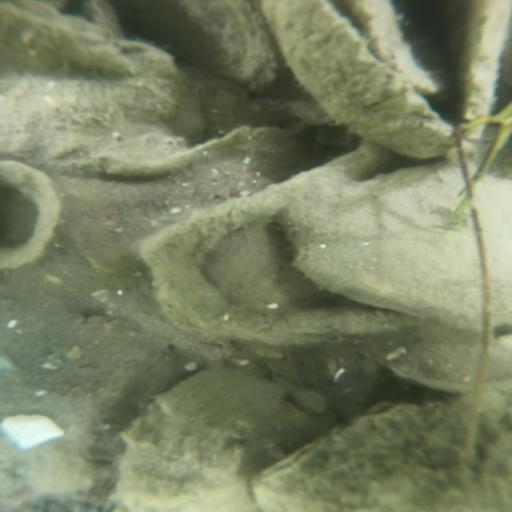Oyster-Closed: (288, 163, 512, 328), (254, 370, 510, 510), (110, 368, 286, 512), (4, 40, 189, 158), (136, 1, 289, 92), (349, 1, 457, 106), (1, 1, 141, 75)
